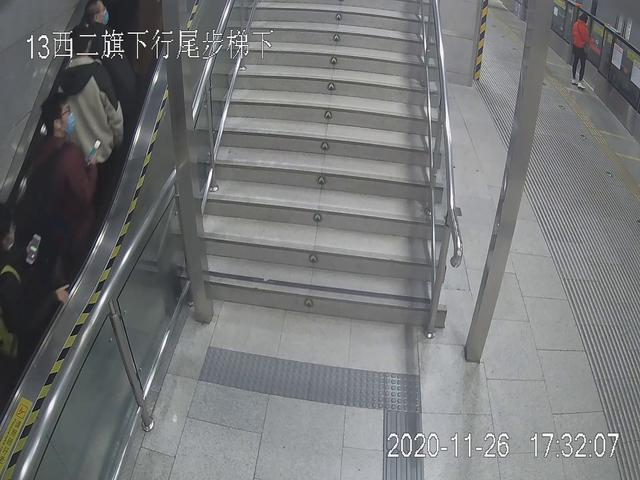person: (32, 98, 101, 268), (565, 11, 596, 88)
